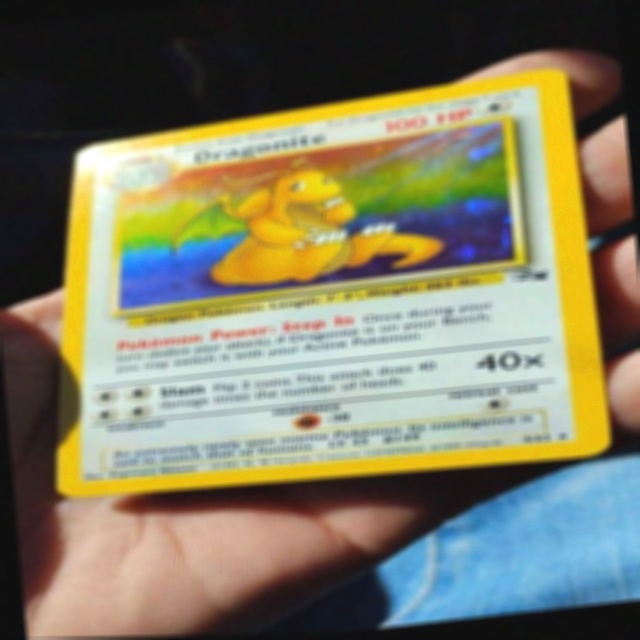card: (49, 69, 615, 498)
